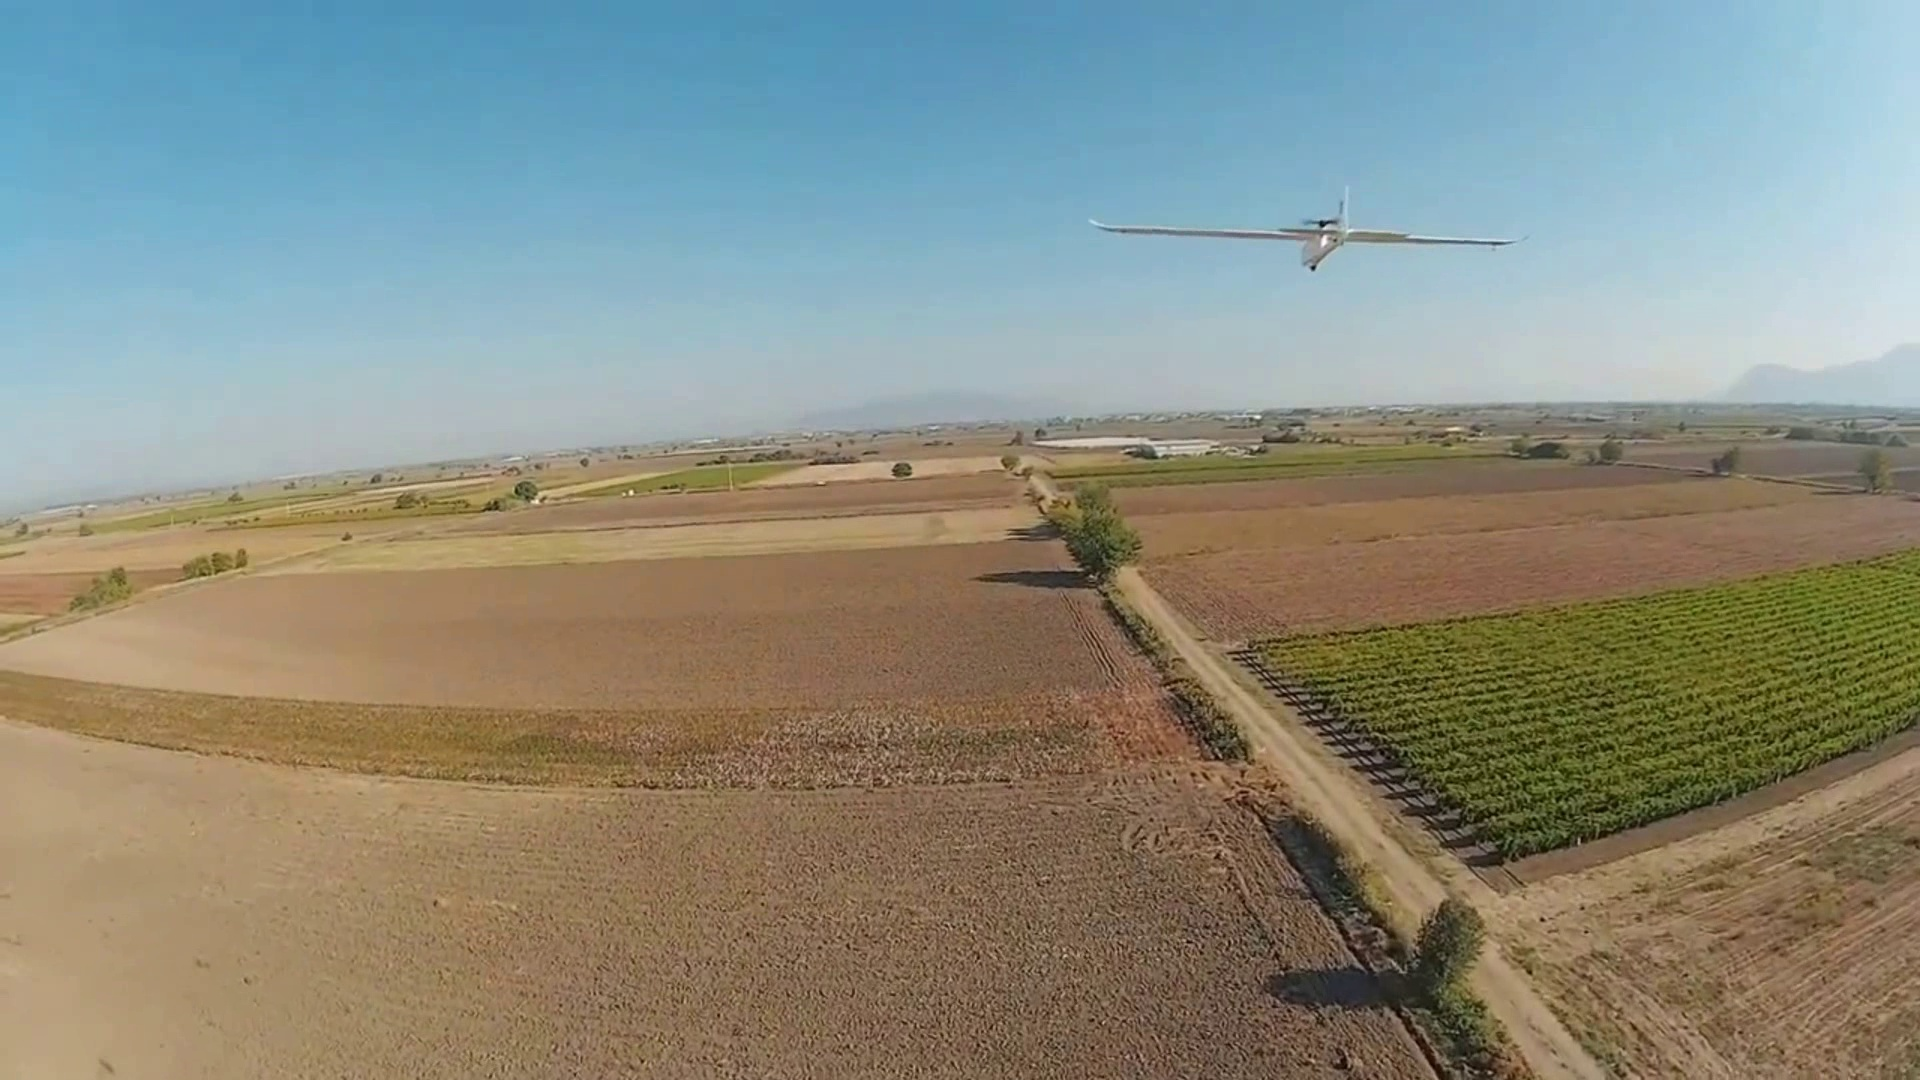airplane: (1087, 186, 1527, 271)
